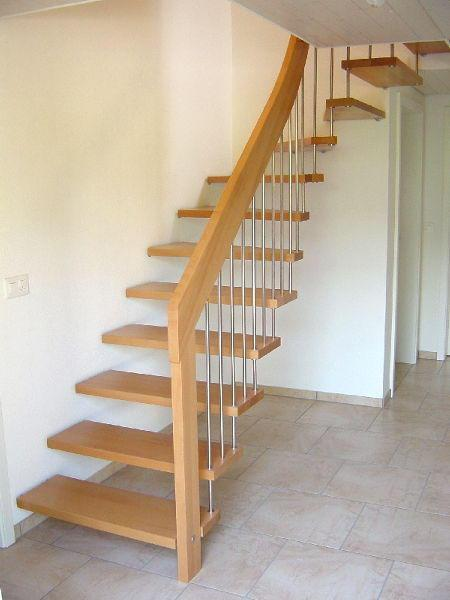Escaleras: (16, 37, 341, 570)
